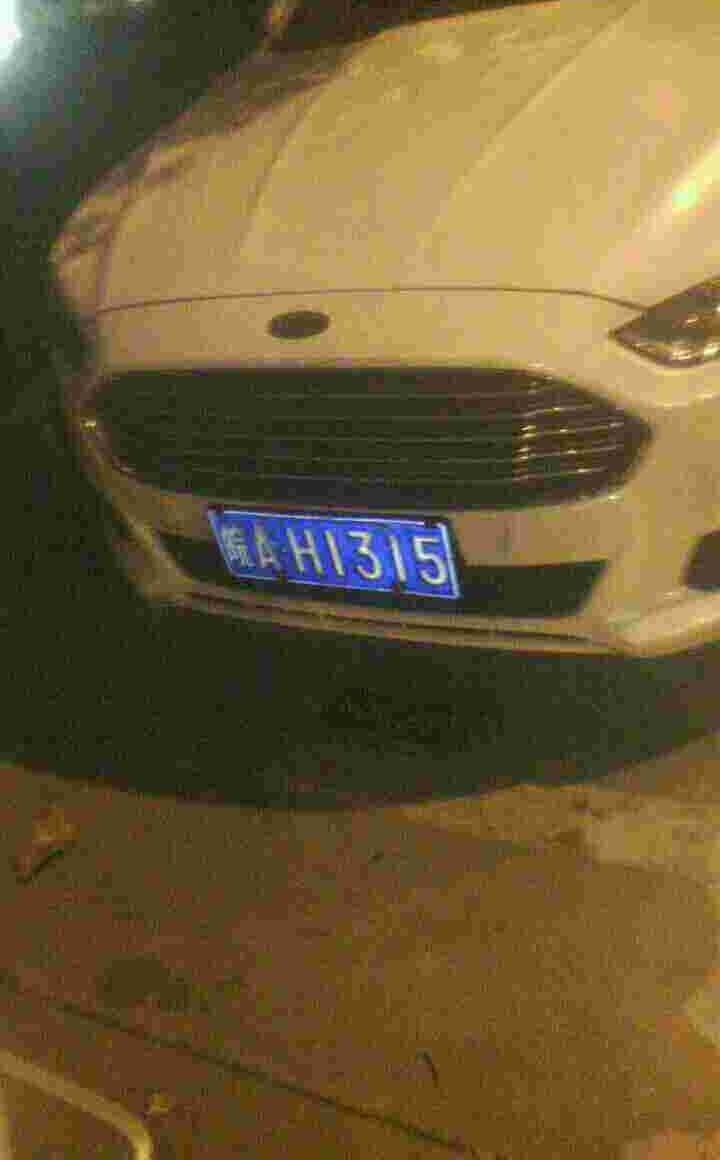license_plate: (214, 506, 444, 606)
